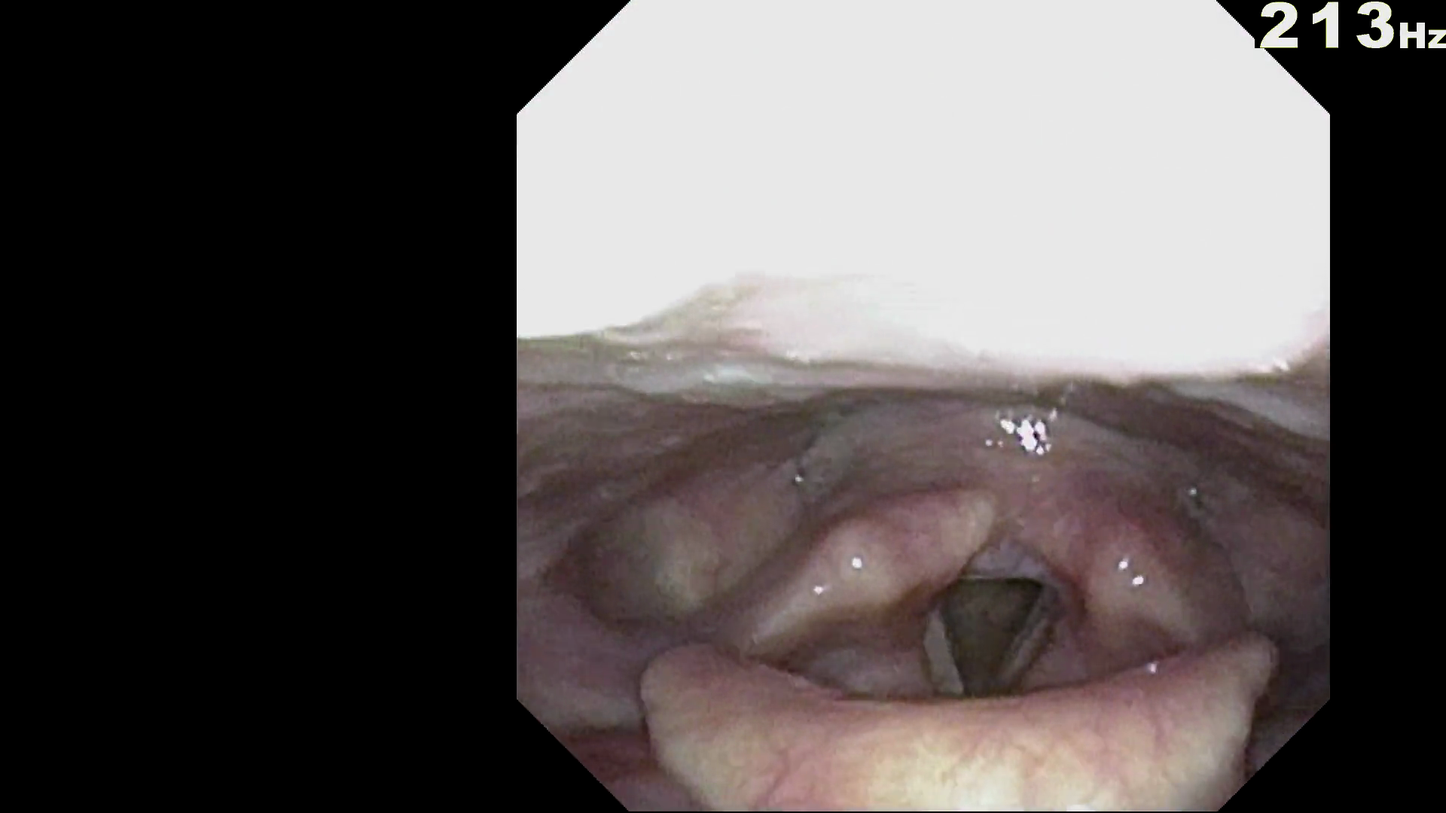epiglottis: (681, 658, 1222, 798)
trachea: (921, 560, 1049, 710)
